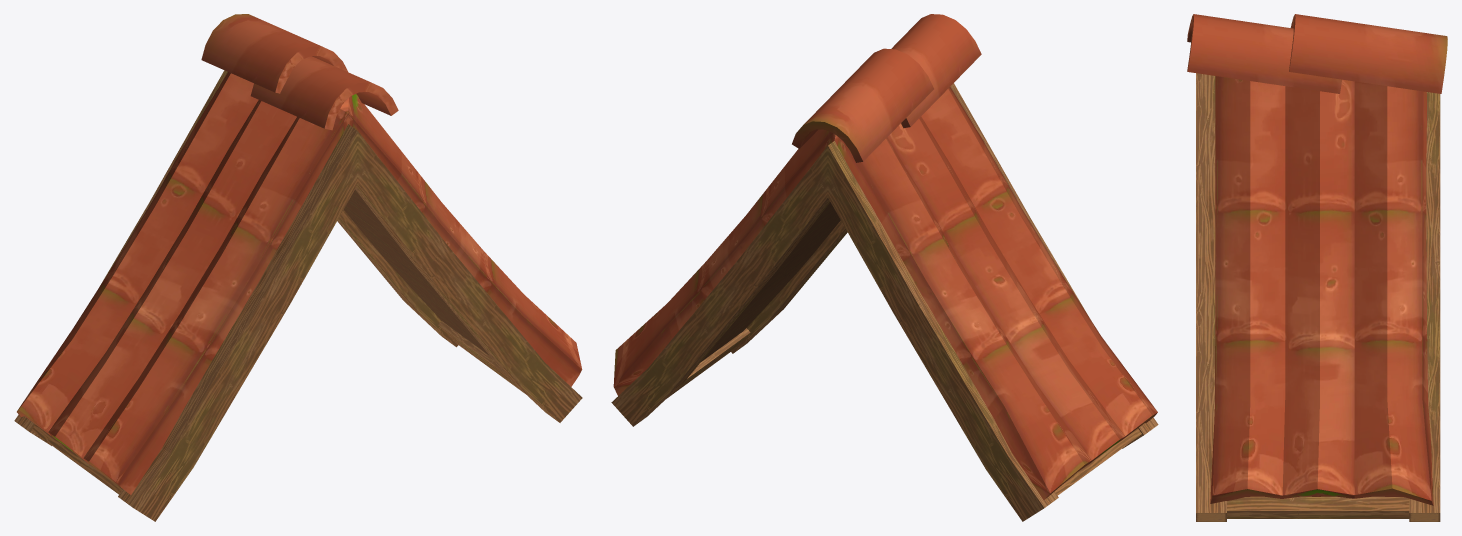
Rendered from roof-roundtile-2x1-long.glb.
The picture shows the model from 3 angles, left to right: view 1: azimuth 30°, elevation 25°; view 2: azimuth 150°, elevation 25°; view 3: azimuth 270°, elevation 25°; orthographic projection. The views are drawn at different scales.
Parts seen in each view (by area): view 1: Roof_RoundTile_2x1_Long; view 2: Roof_RoundTile_2x1_Long; view 3: Roof_RoundTile_2x1_Long.
Boxes of the visible parts, left/top/right/bottom form: Roof_RoundTile_2x1_Long: left=14, top=14, right=582, bottom=521; Roof_RoundTile_2x1_Long: left=611, top=14, right=1158, bottom=521; Roof_RoundTile_2x1_Long: left=1187, top=14, right=1447, bottom=521.
Bounding box in the file's own units: 4.35 × 3.33 × 1.95.
Materials: 2 (2 with a texture image).
